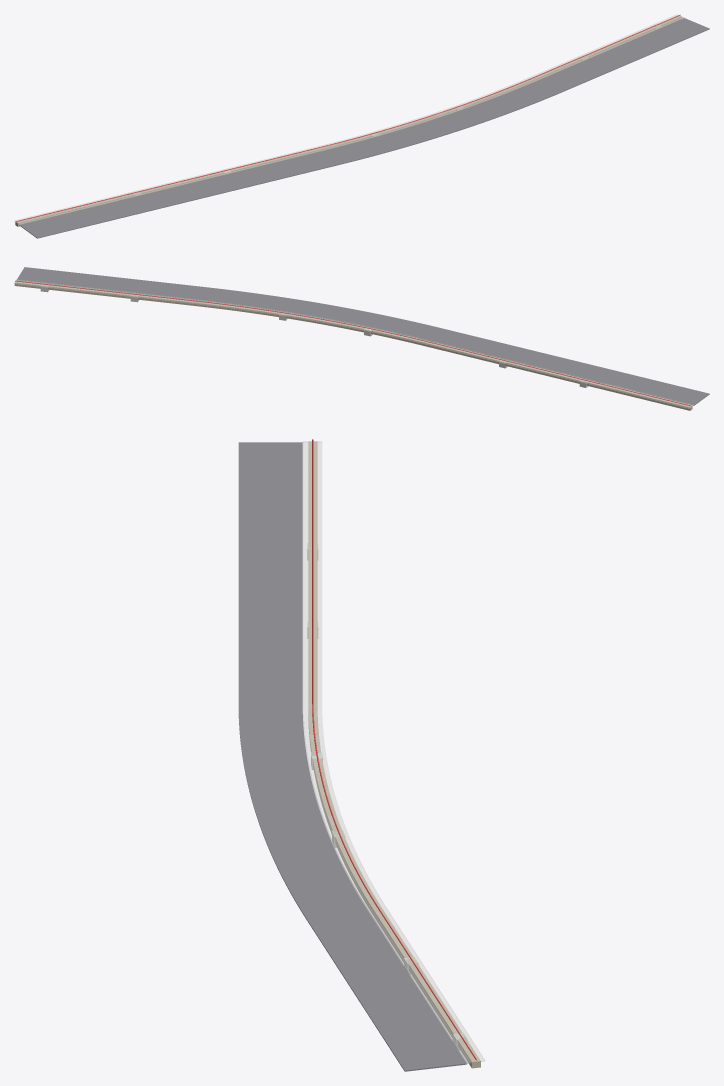
3 views of the same model, one above another, from view 1: azimuth 30°, elevation 25°; view 2: azimuth 150°, elevation 25°; view 3: azimuth 270°, elevation 25° (orthographic). The views are drawn at different scales.
Parts seen in each view (by area): view 1: 道路|車道 (参考), 管路部|管路部 (掘削断面 1.5×1.15m を一体化), 道路|歩道 (参考), 道路|歩車道境界ブロック (参考), 線形|管路ルート (中心線); view 2: 道路|車道 (参考), 管路部|管路部 (掘削断面 1.5×1.15m を一体化), 道路|歩道 (参考), 道路|歩車道境界ブロック (参考), 線形|管路ルート (中心線); view 3: 道路|車道 (参考), 道路|歩道 (参考), 管路部|管路部 (掘削断面 1.5×1.15m を一体化), 線形|管路ルート (中心線), 道路|歩車道境界ブロック (参考).
Boxes of the visible parts, x1,y1,x2,y2 form: 道路|車道 (参考): (19, 18, 709, 238); 管路部|管路部 (掘削断面 1.5×1.15m を一体化): (15, 15, 682, 226); 道路|歩道 (参考): (14, 14, 683, 224); 道路|歩車道境界ブロック (参考): (19, 17, 684, 224); 線形|管路ルート (中心線): (16, 14, 680, 221); 道路|車道 (参考): (17, 267, 709, 405); 管路部|管路部 (掘削断面 1.5×1.15m を一体化): (14, 281, 692, 410); 道路|歩道 (参考): (14, 280, 693, 408); 道路|歩車道境界ブロック (参考): (16, 279, 693, 405); 線形|管路ルート (中心線): (15, 280, 691, 406); 道路|車道 (参考): (238, 442, 466, 1071); 道路|歩道 (参考): (304, 441, 484, 1063); 管路部|管路部 (掘削断面 1.5×1.15m を一体化): (308, 441, 480, 1068); 線形|管路ルート (中心線): (312, 439, 476, 1060); 道路|歩車道境界ブロック (参考): (302, 441, 467, 1064).
Bounding box in the file's own units: 240 × 2.4 × 39.86.
